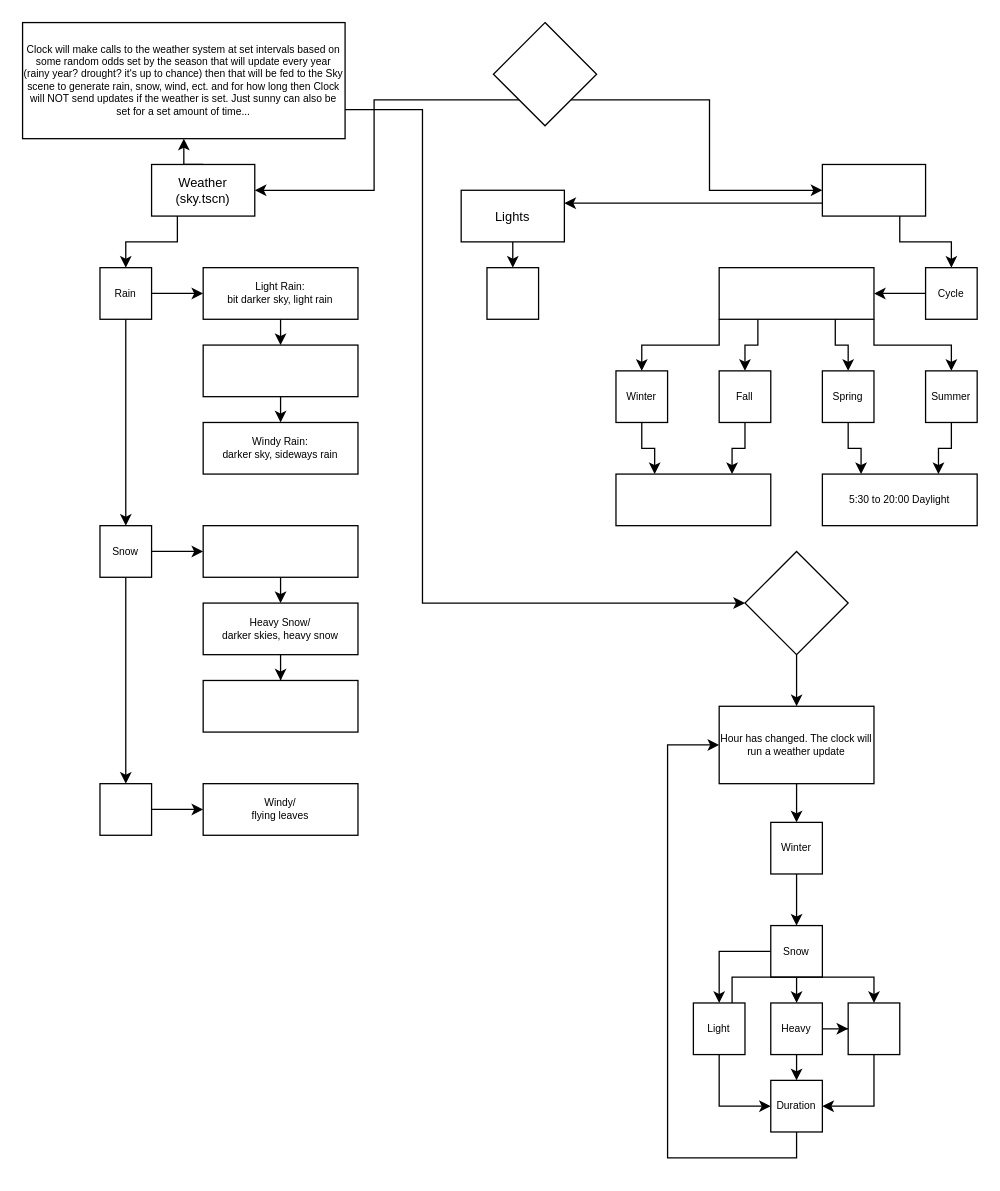
Image size: 1000x1191. Some labels were removed from this diagram. The shapes that lost their labels are listed below. From the top down, each one's centre as x and y in pixels, then its label:
At pixel 544 73: "Day/ Night Cycle".
At pixel 873 189: "Day/Night".
At pixel 512 292: "Start/stop depending on time".
At pixel 796 292: "SEASONS".
At pixel 280 370: "Heavy Rain: darker sky, heavy rain".
At pixel 693 499: "6:30 to 17:00 Daylight".
At pixel 280 550: "Light Snow/ darkish skies, light snow".
At pixel 796 602: "Weather Change".
At pixel 280 705: "Blizzard/ dark skies, heavy windy snow".
At pixel 125 808: "Wind".
At pixel 873 1028: "Windy".
